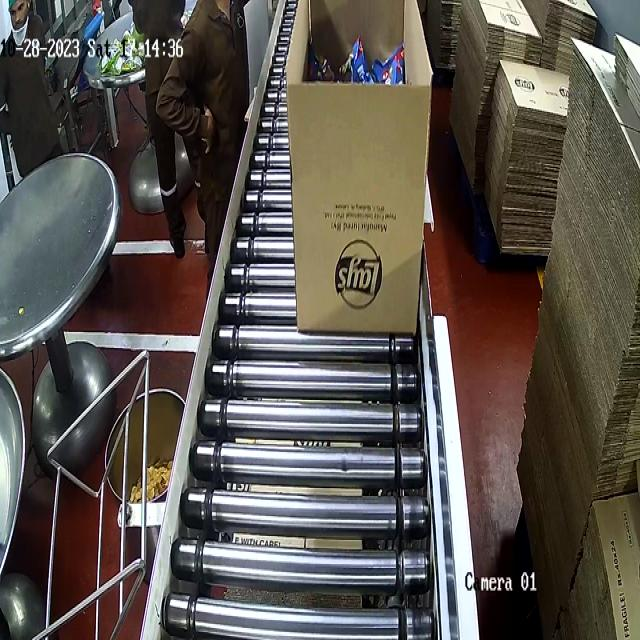PAPRIKA: (306, 44, 410, 84)
